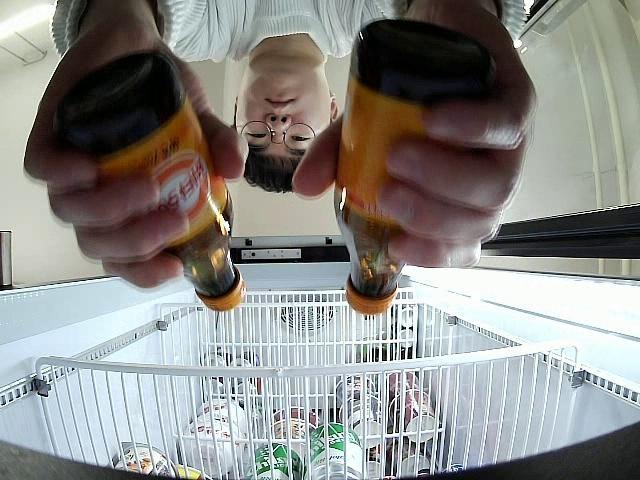17_vita500: (56, 48, 244, 308), (332, 19, 494, 316)
